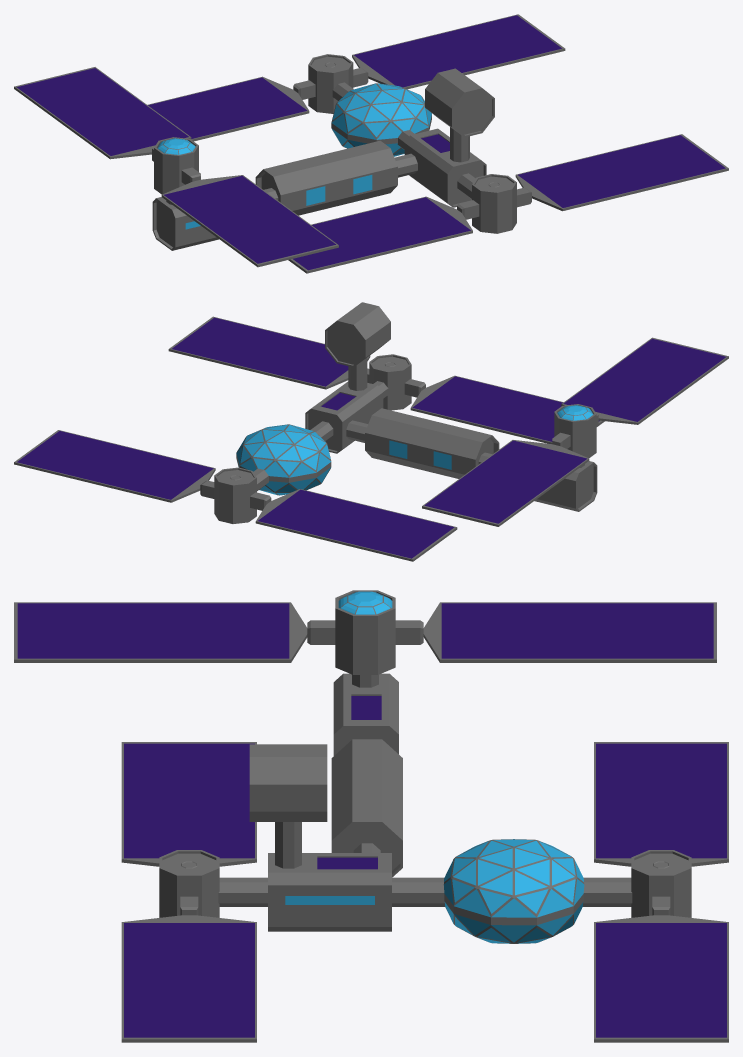
File: ISS.fbx
The picture shows the model from 3 angles, top to bottom: view 1: azimuth 30°, elevation 25°; view 2: azimuth 150°, elevation 25°; view 3: azimuth 270°, elevation 25°; orthographic projection. The views are drawn at different scales.
Visible parts, largest first — view 1: Cylinder.011, Cylinder, Cylinder.006, Cylinder.008, Icosphere, Cylinder.004, Cube, Cube.001, Cylinder.003; view 2: Cylinder.006, Cylinder.011, Cylinder, Cylinder.008, Icosphere, Cylinder.004, Cube, Cube.001, Cylinder.003; view 3: Cylinder.011, Cylinder.006, Cylinder, Icosphere, Cube, Cylinder.008, Cylinder.004, Cube.001, Cylinder.002, Cylinder.001, Cylinder.005, Cylinder.003.
Part boxes in pixels (<box>): Cylinder.011: <box>14,67,338,267</box>; Cylinder: <box>288,134,728,273</box>; Cylinder.006: <box>147,14,565,141</box>; Cylinder.008: <box>255,140,397,215</box>; Icosphere: <box>331,83,431,156</box>; Cylinder.004: <box>425,68,494,137</box>; Cube: <box>404,128,486,207</box>; Cube.001: <box>152,197,218,250</box>; Cylinder.003: <box>450,127,469,162</box>; Cylinder.006: <box>14,430,457,561</box>; Cylinder.011: <box>422,337,728,526</box>; Cylinder: <box>168,316,604,443</box>; Cylinder.008: <box>365,408,499,478</box>; Icosphere: <box>236,424,331,495</box>; Cylinder.004: <box>325,302,390,367</box>; Cube: <box>305,381,383,453</box>; Cube.001: <box>534,461,597,511</box>; Cylinder.003: <box>348,358,367,390</box>; Cylinder.011: <box>14,590,716,674</box>; Cylinder.006: <box>594,742,728,1042</box>; Cylinder: <box>121,742,256,1042</box>; Icosphere: <box>443,839,584,943</box>; Cube: <box>268,853,391,931</box>; Cylinder.008: <box>331,739,402,877</box>; Cylinder.004: <box>249,744,327,821</box>; Cube.001: <box>333,673,398,755</box>; Cylinder.002: <box>392,877,444,906</box>; Cylinder.001: <box>218,877,267,906</box>; Cylinder.005: <box>583,877,632,906</box>; Cylinder.003: <box>275,822,301,868</box>.
Size of the model in its own units: 2594 by 625 by 2191.
